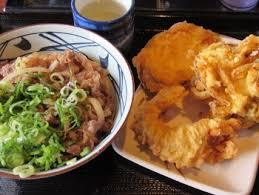kakiage: (191, 38, 259, 126)
niku: (1, 26, 120, 172)
satumaimo: (136, 20, 220, 90)
